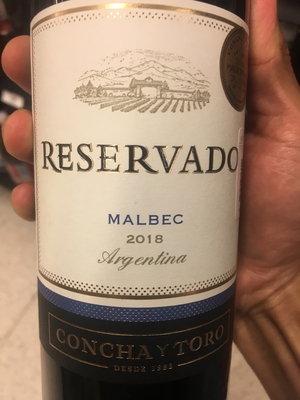reservado malbec: (24, 1, 248, 400)
